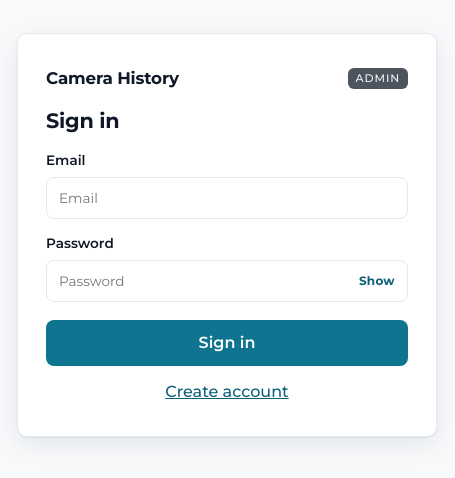
Test: App login › shows an error when login fails
Type "a@b.cz" into the field with test id "login-email" at {"x": 227, "y": 198}, box [46,177,408,219]
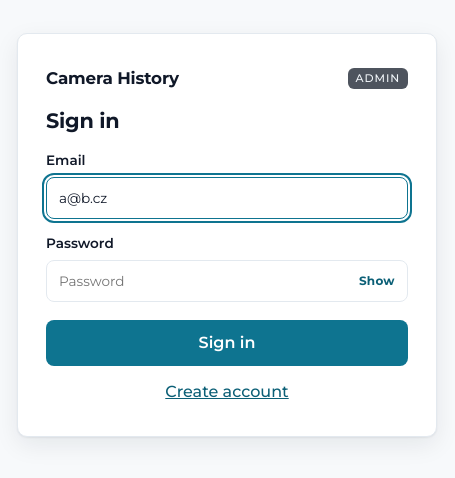
Type "bad" into the password field with test id "login-password" at {"x": 227, "y": 281}, box [46,260,408,302]
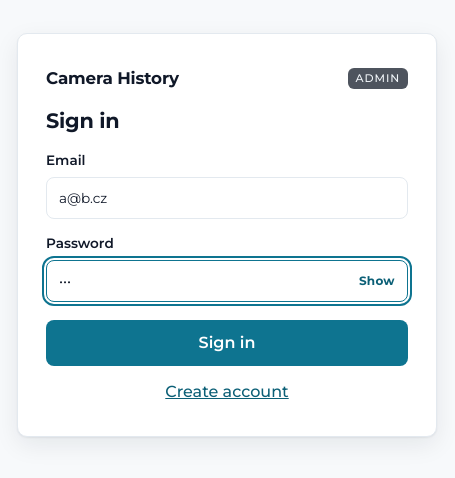
Click the button with test id "login-submit" at {"x": 227, "y": 343}, box [46,320,408,366]
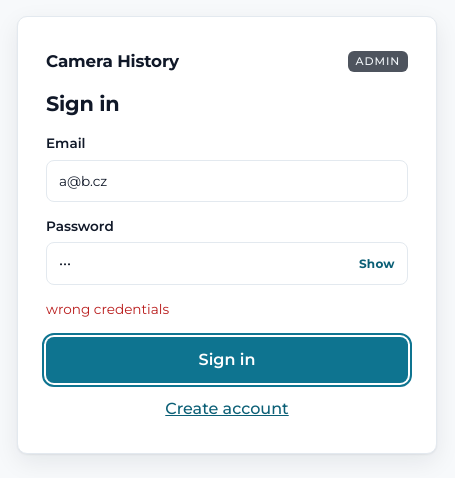
Check: the text with test id "login-error" reads "wrong credentials", box [46,301,169,317]
